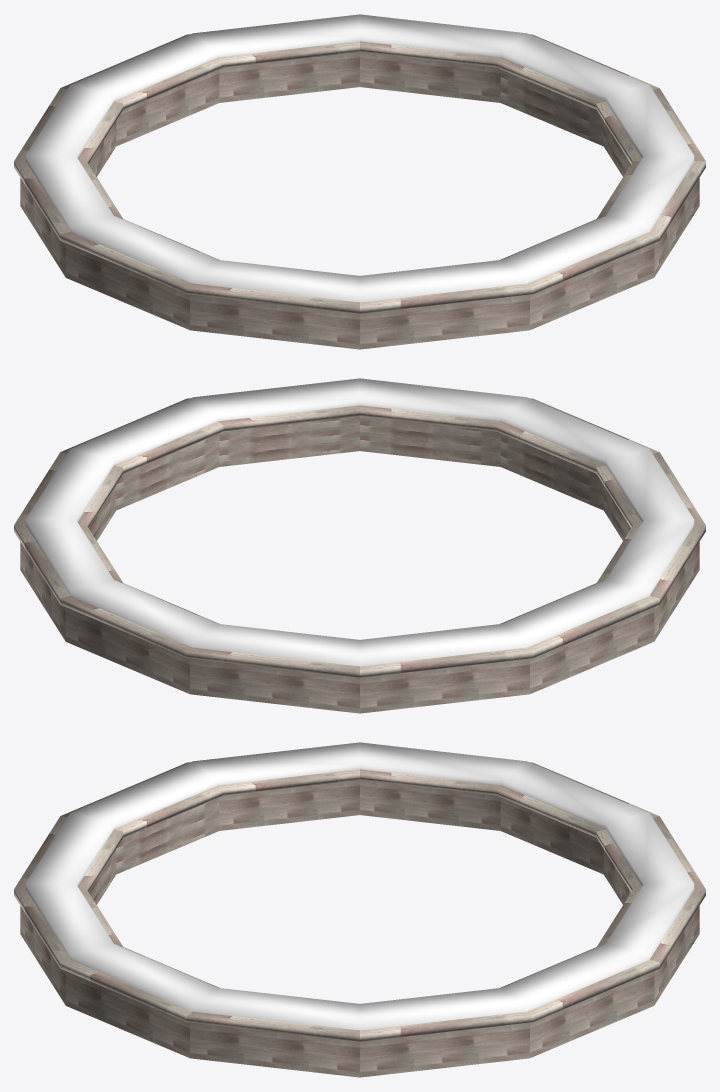
File: conveyor_belt.glb
3 renders of one model, top to bottom at view 1: azimuth 30°, elevation 25°; view 2: azimuth 150°, elevation 25°; view 3: azimuth 270°, elevation 25°, orthographic.
Parts seen in each view (by area): view 1: Cylinder, Belt; view 2: Cylinder, Belt; view 3: Cylinder, Belt.
Boxes of the visible parts, box(x1,y1,x2,y2) form: Cylinder: box(14, 34, 705, 349); Belt: box(25, 14, 694, 302); Cylinder: box(14, 398, 705, 713); Belt: box(25, 378, 694, 666); Cylinder: box(14, 762, 705, 1077); Belt: box(25, 742, 694, 1030).
Size of the model in its own units: 16.29 by 1.31 by 16.29.
Materials: 2 (1 with a texture image).
